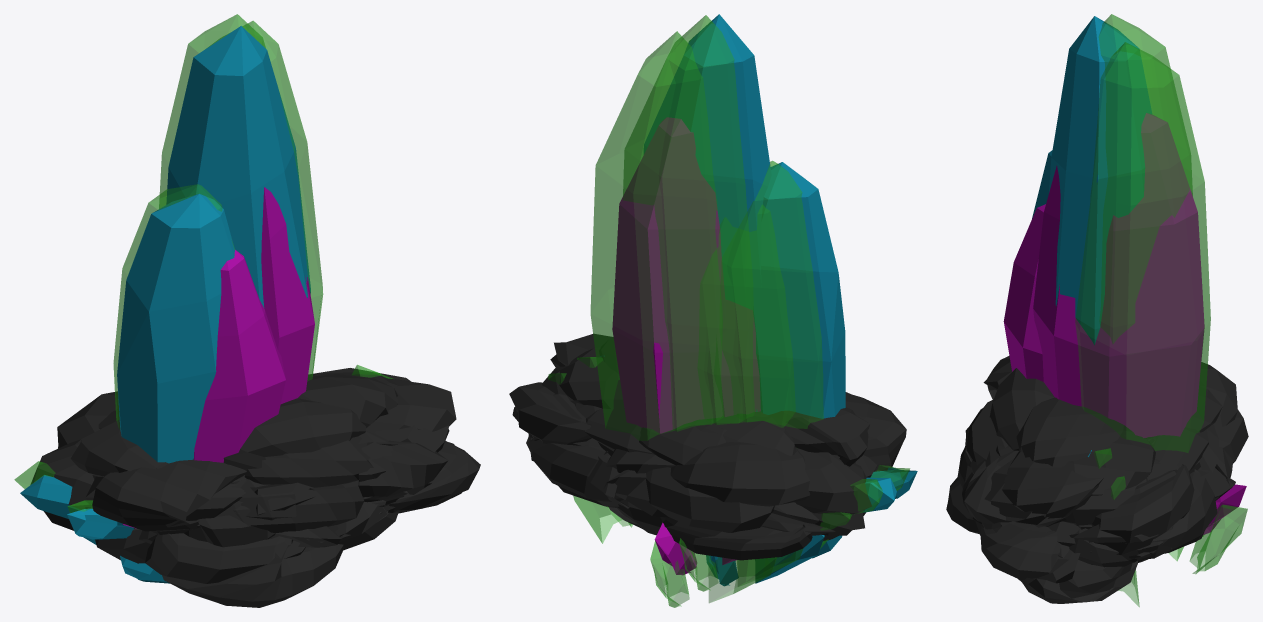
Rendered from crystal8.obj.
3 renders of one model, left to right at view 1: azimuth 30°, elevation 25°; view 2: azimuth 150°, elevation 25°; view 3: azimuth 270°, elevation 25°, orthographic. The views are drawn at different scales.
Visible parts, largest first — view 1: Cube.001, Circle.003, Circle, Circle.001, Circle.002; view 2: Circle.002, Circle.001, Cube.001, Circle.003, Circle; view 3: Circle.002, Cube.001, Circle, Circle.003, Circle.001.
Boxes of the visible parts, x1=… form: Cube.001: x1=30, y1=368, x2=480, y2=607; Circle.003: x1=20, y1=26, x2=310, y2=583; Circle: x1=123, y1=187, x2=314, y2=528; Circle.001: x1=14, y1=14, x2=381, y2=512; Circle.002: x1=209, y1=21, x2=392, y2=380; Circle.002: x1=548, y1=31, x2=851, y2=607; Circle.001: x1=577, y1=15, x2=909, y2=591; Cube.001: x1=509, y1=334, x2=906, y2=560; Circle.003: x1=600, y1=14, x2=917, y2=586; Circle: x1=612, y1=117, x2=760, y2=575; Circle.002: x1=1075, y1=42, x2=1247, y2=606; Cube.001: x1=946, y1=356, x2=1248, y2=603; Circle: x1=1003, y1=113, x2=1246, y2=534; Circle.003: x1=1032, y1=16, x2=1151, y2=456; Circle.001: x1=1094, y1=14, x2=1203, y2=535.
Bounding box in the file's own units: 3.83 × 5.11 × 2.47.
